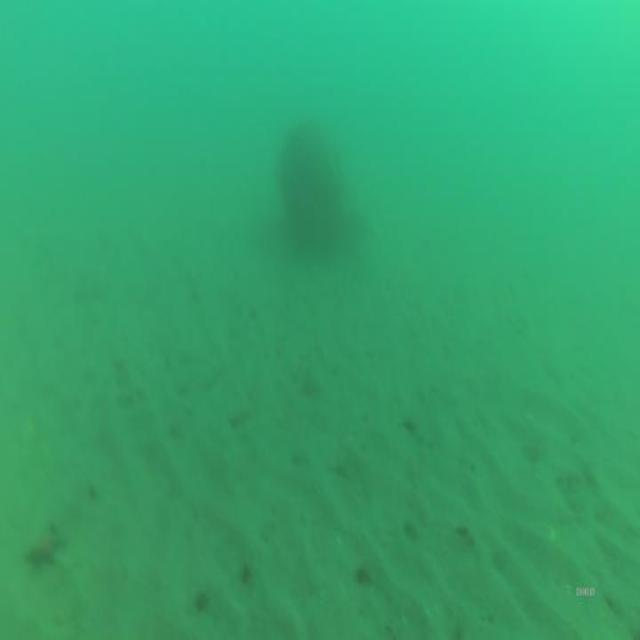starfish: (24, 531, 60, 572)
